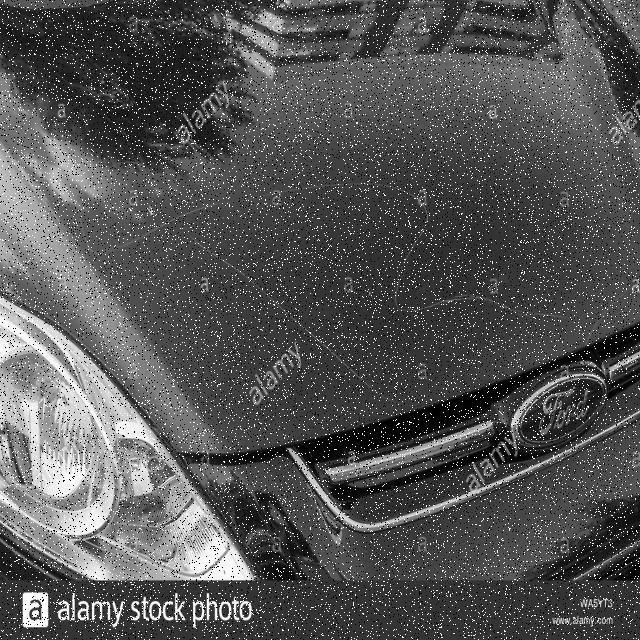bonnet-dent: (12, 49, 640, 471)
